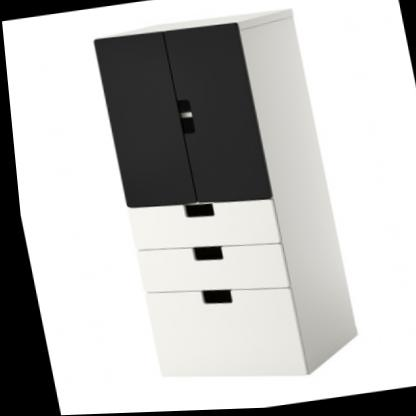Cabinet: (82, 1, 365, 401)
